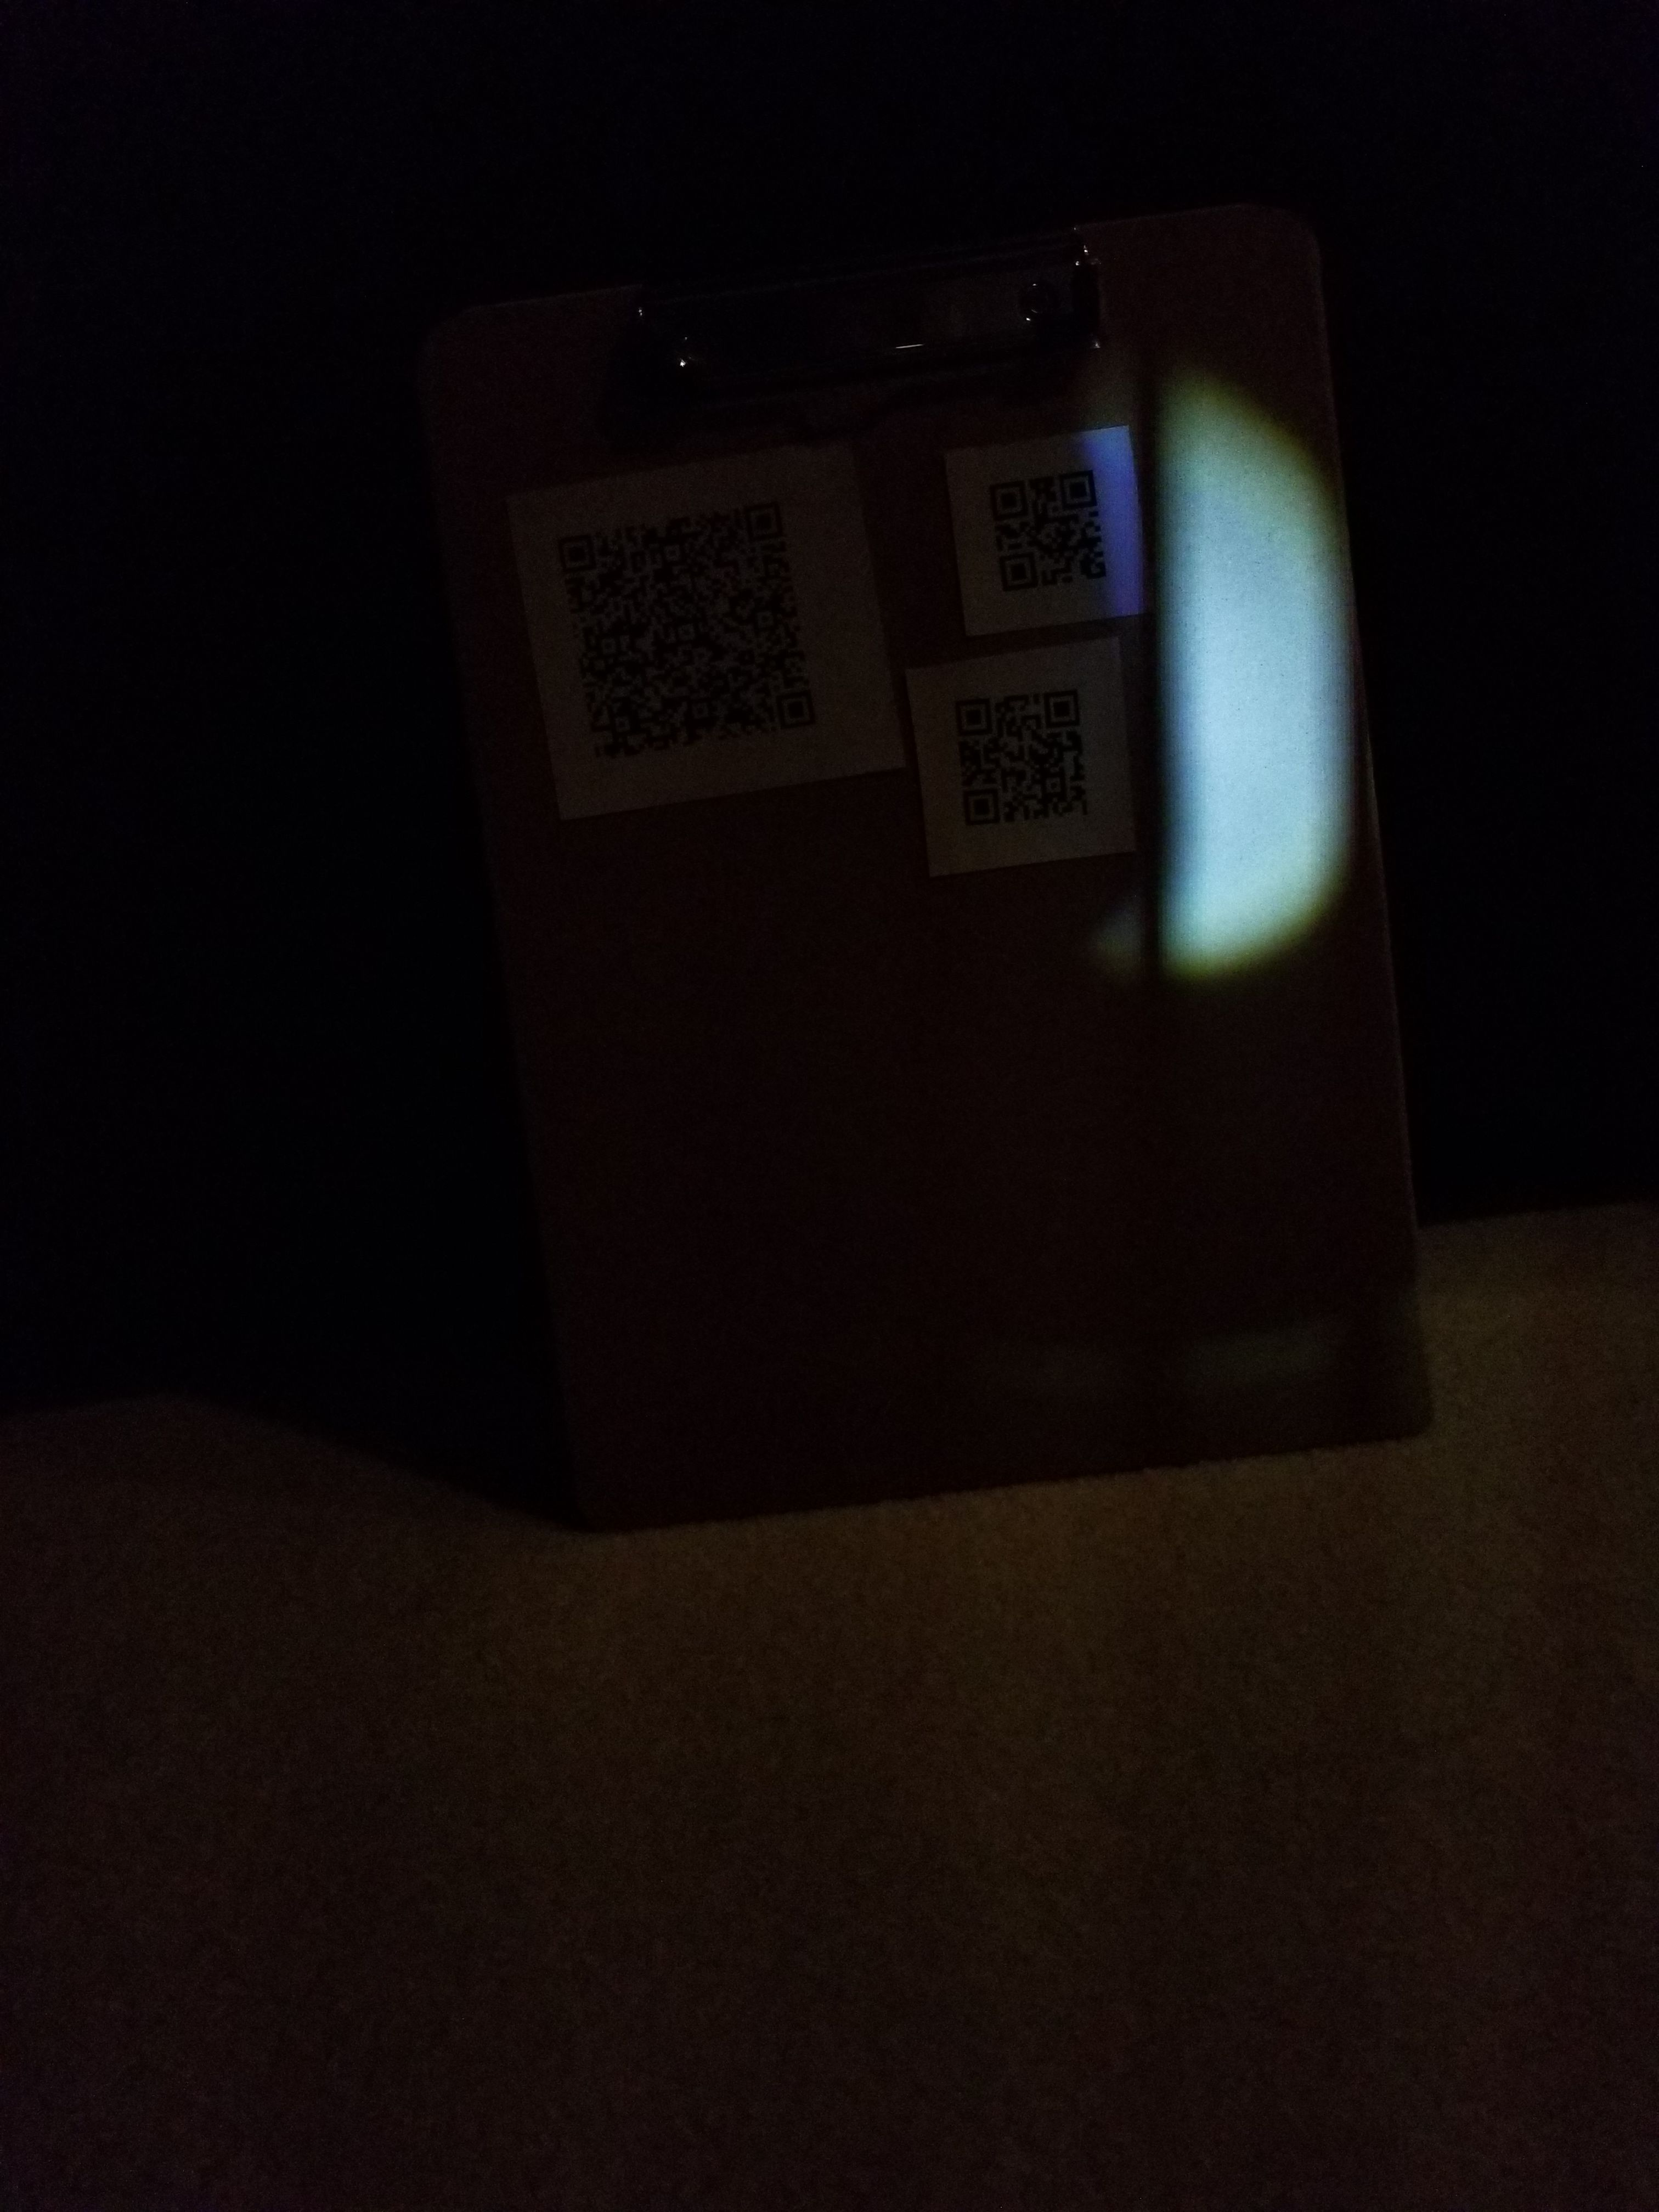QR_CODE: (533, 472, 830, 786), (934, 672, 1129, 853), (971, 448, 1134, 613)
